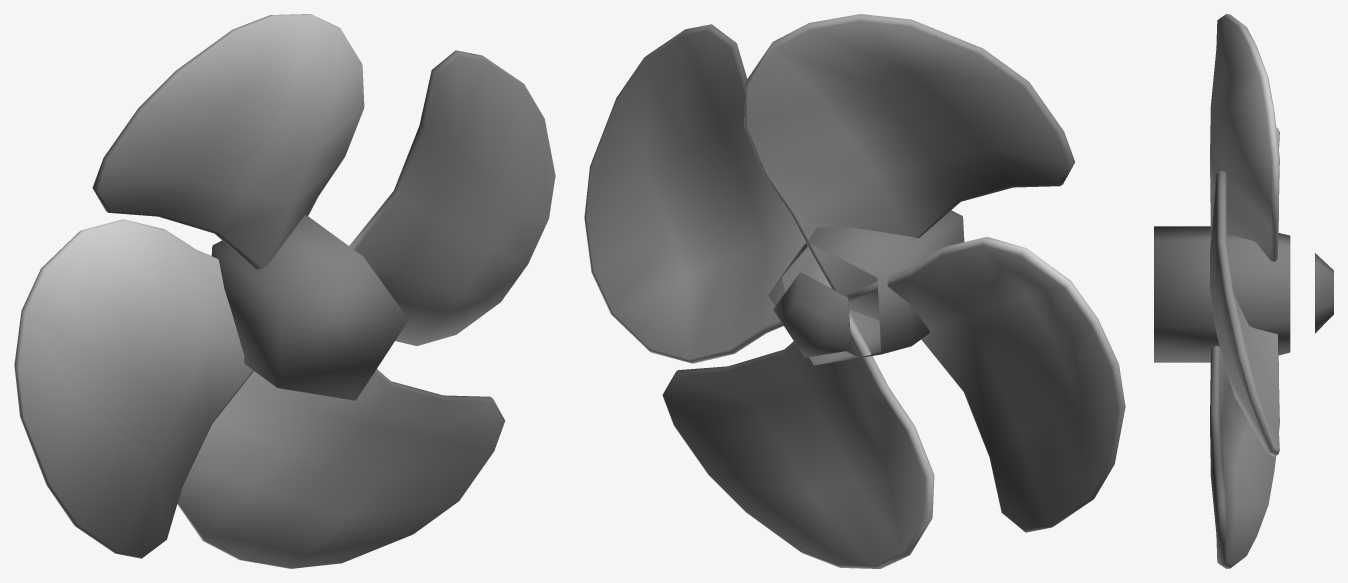
The model's file is propeller_right.fbx.
3 renders of one model, left to right at view 1: azimuth 30°, elevation 25°; view 2: azimuth 150°, elevation 25°; view 3: azimuth 270°, elevation 25°, orthographic. The views are drawn at different scales.
Visible parts, largest first — view 1: Blades; view 2: Blades; view 3: Blades.
Part boxes in pixels (x1,y1,x2,y2): Blades: [14, 14, 555, 568]; Blades: [584, 14, 1125, 568]; Blades: [1154, 14, 1333, 568].
Size of the model in its own units: 300 by 300 by 100.
